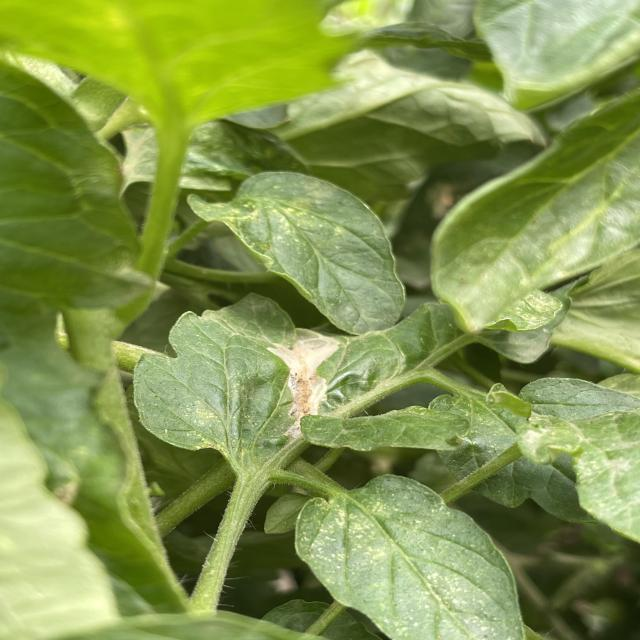Tuta absoluta: (268, 327, 358, 427)
